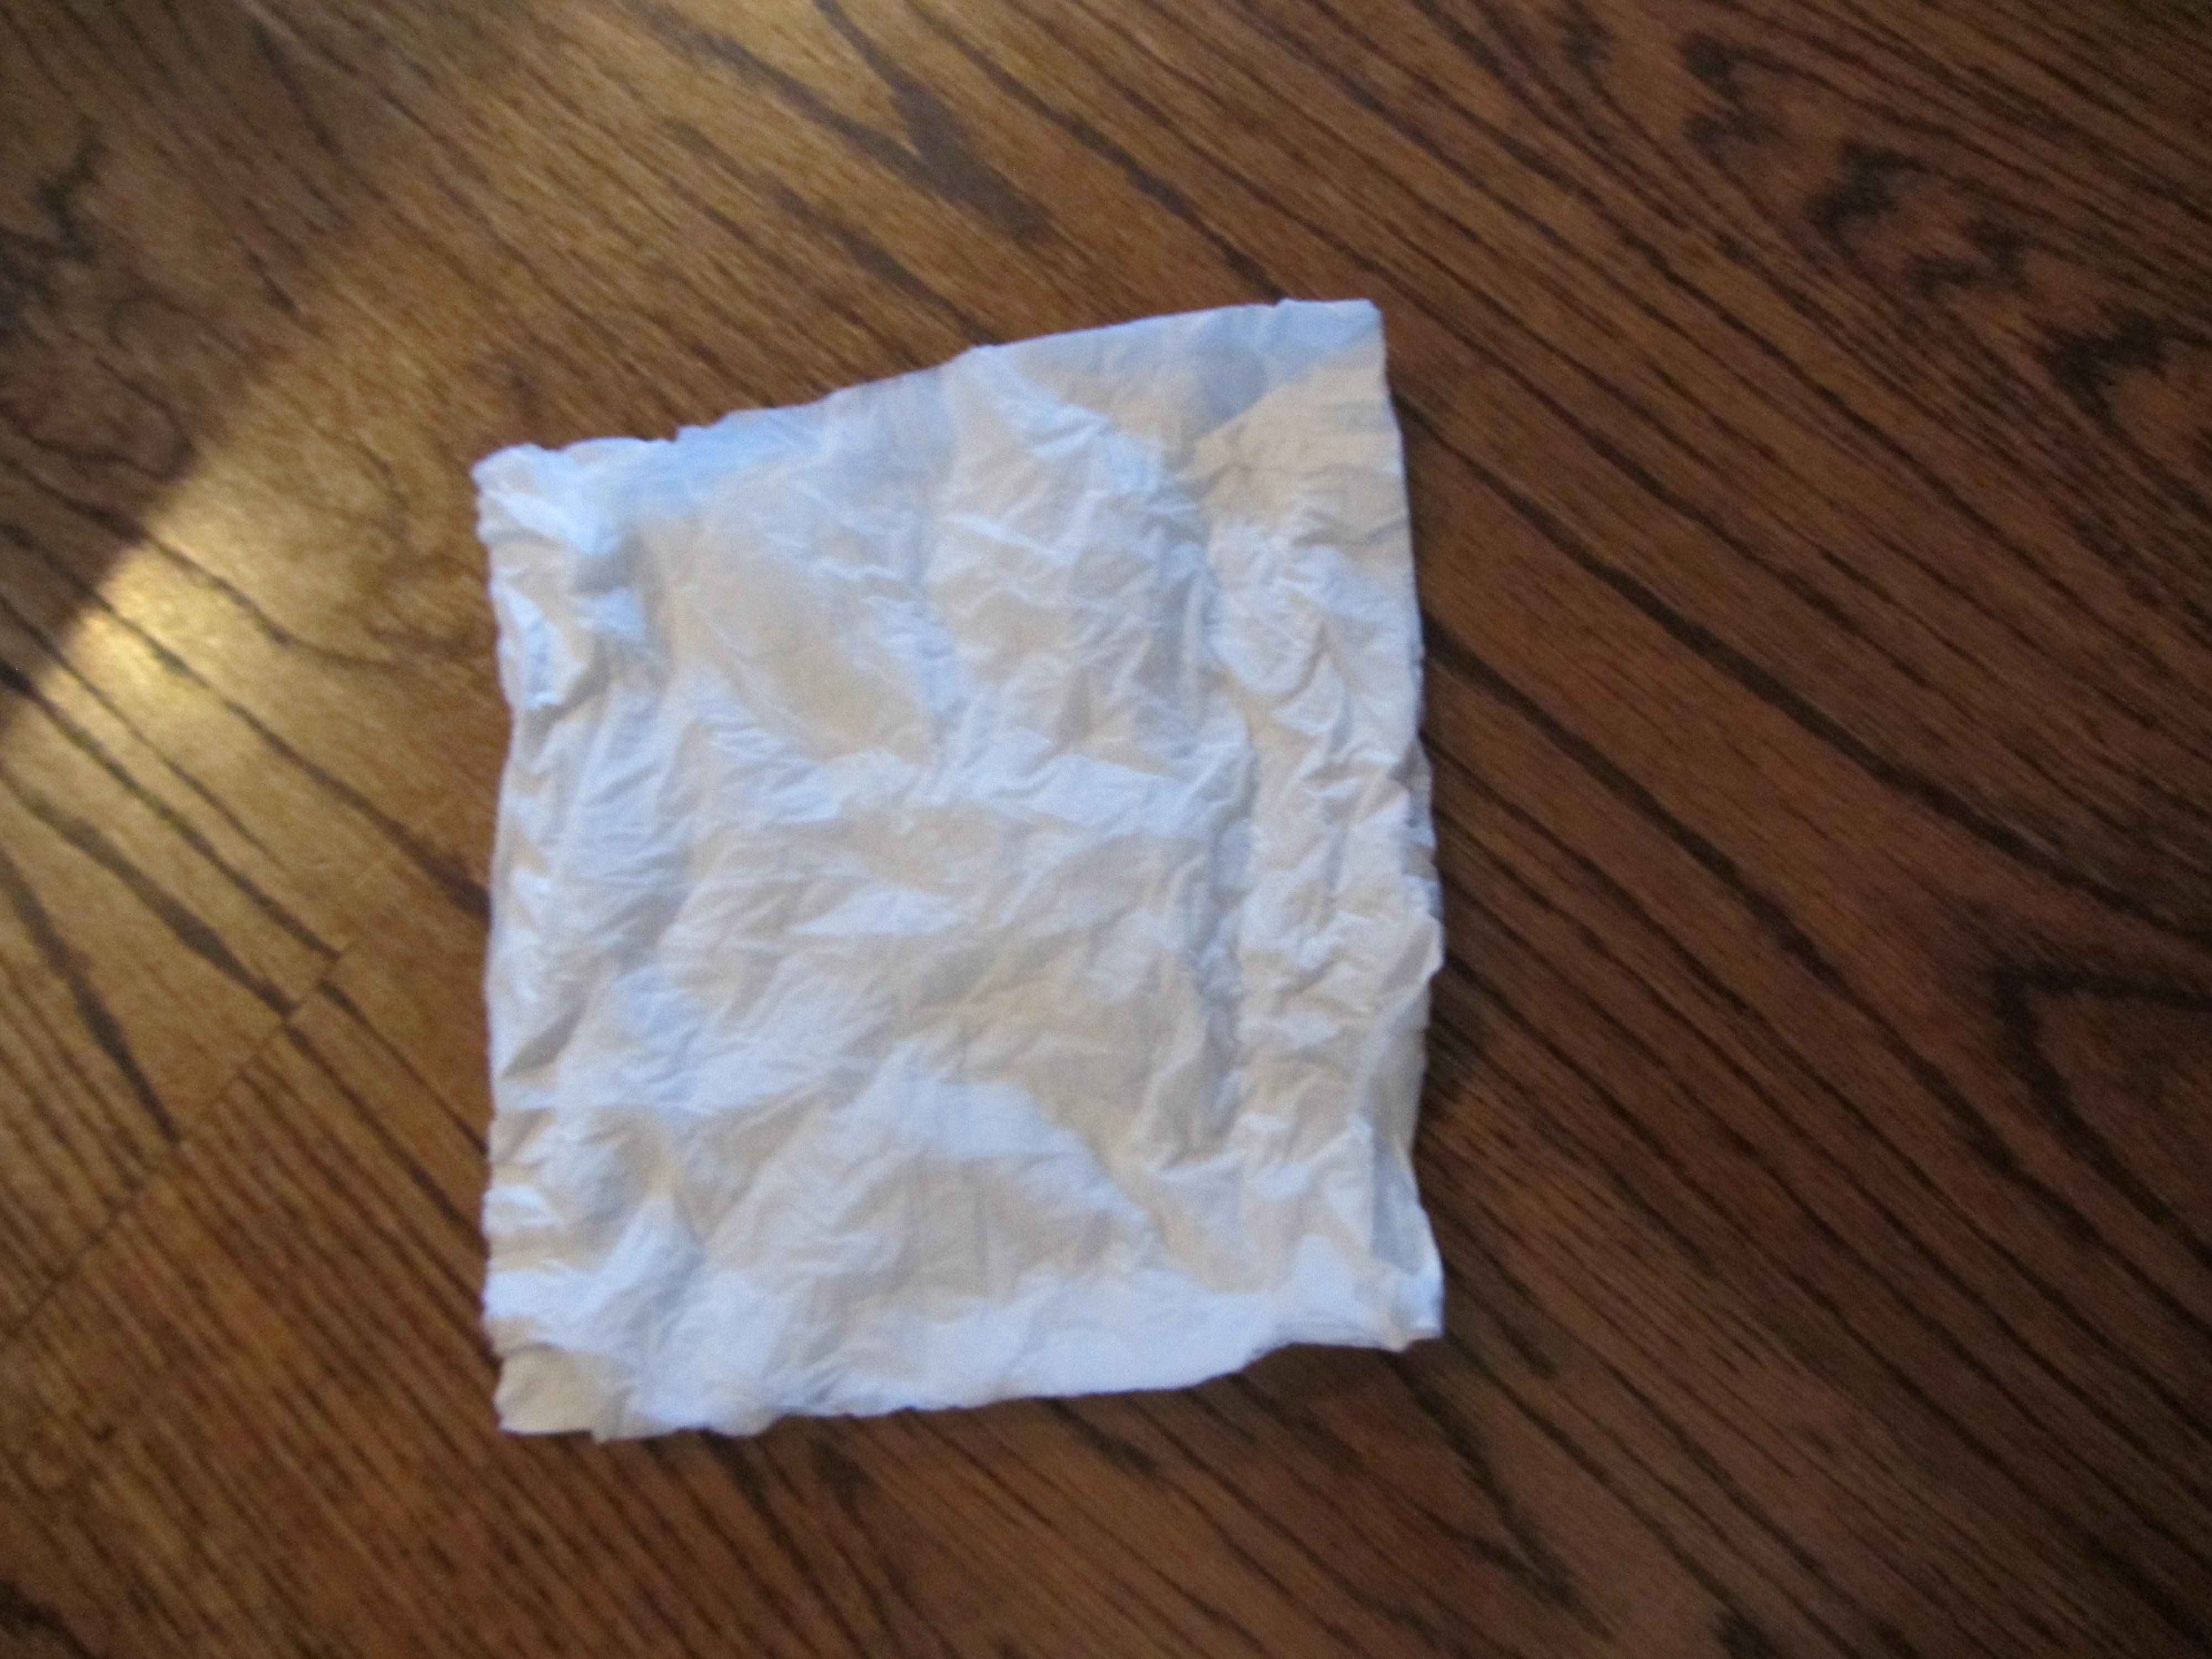tissue: (458, 295, 1487, 1439)
